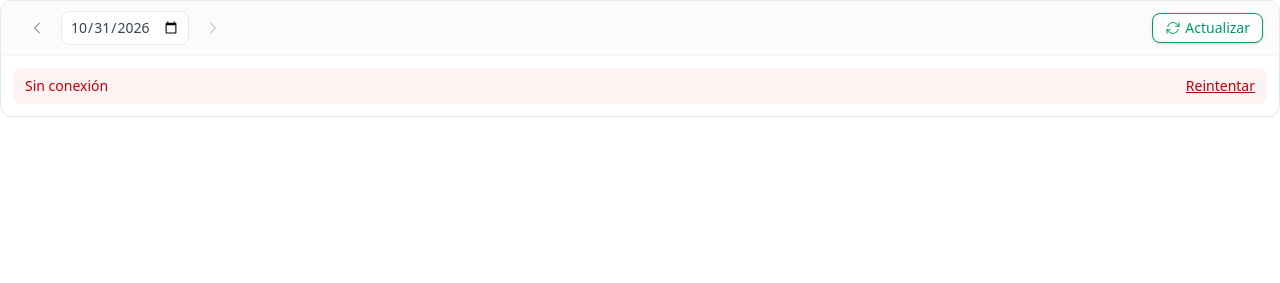
Test case: historial de almuerzos › muestra error recuperable y un estado vacío después del reintento
Check: the message "Sin conexión Reintentar" is shown, box [13, 68, 1267, 104]
Click the button "Reintentar" at x=1220, y=86, box [1186, 76, 1255, 96]
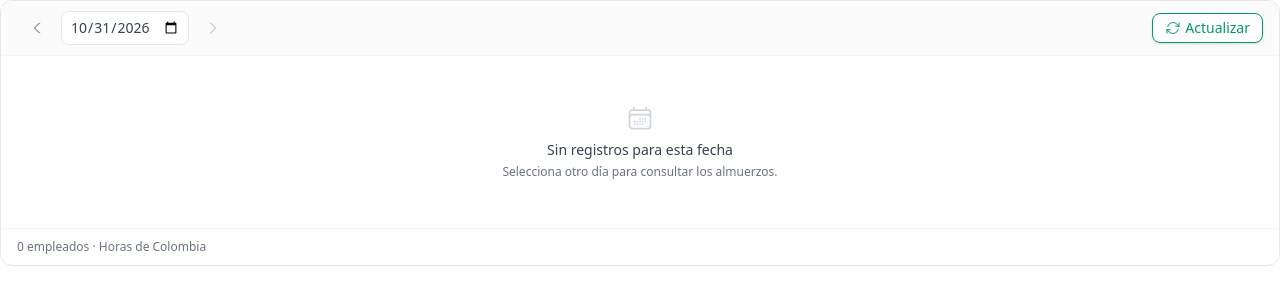
Check: the text "Sin registros para esta fecha" is shown, box [547, 140, 733, 159]
